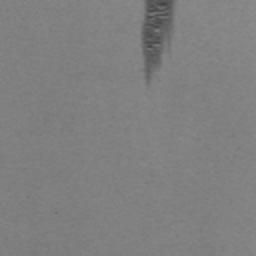Oxide scale of plate system: (142, 0, 174, 81)
